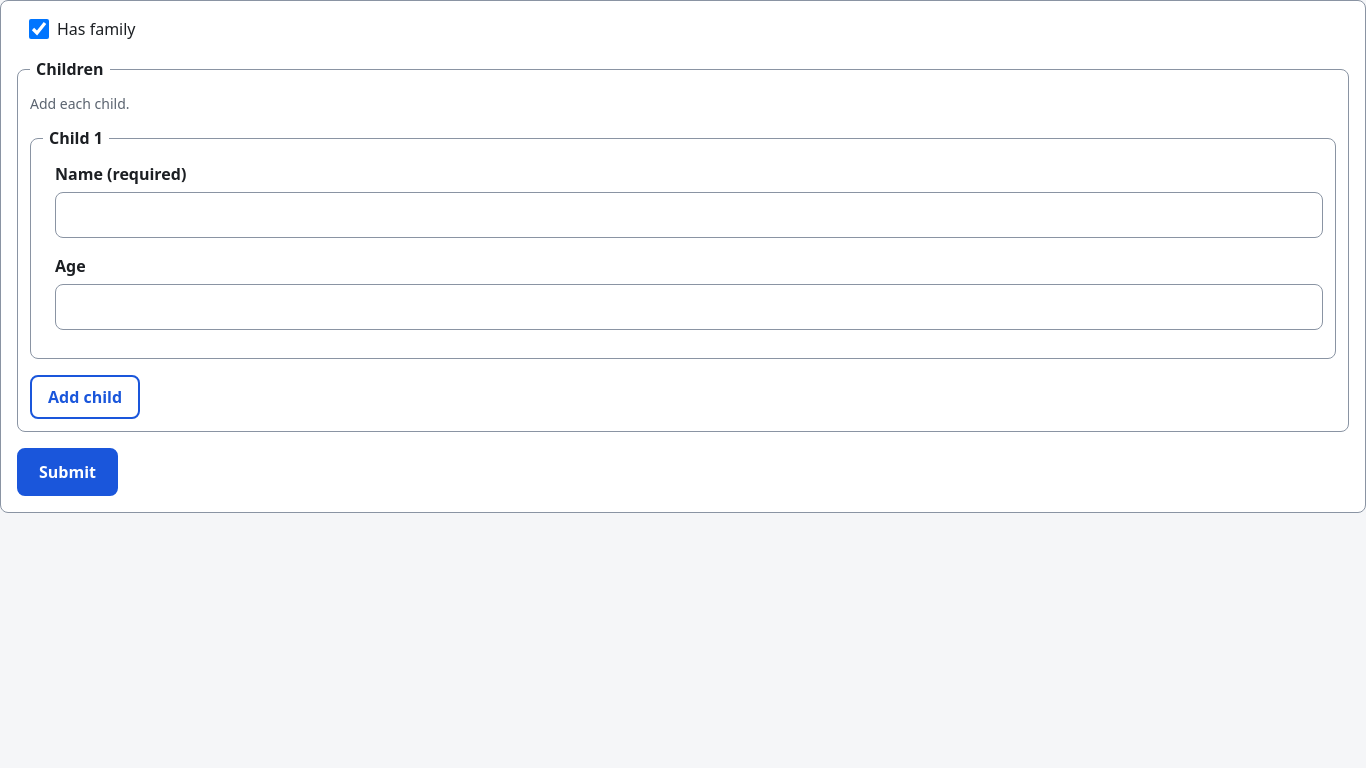
Test: Form: a group that repeats › names each remove button after its item
Click the button "Add child": x=85, y=397 [30,375,140,419]
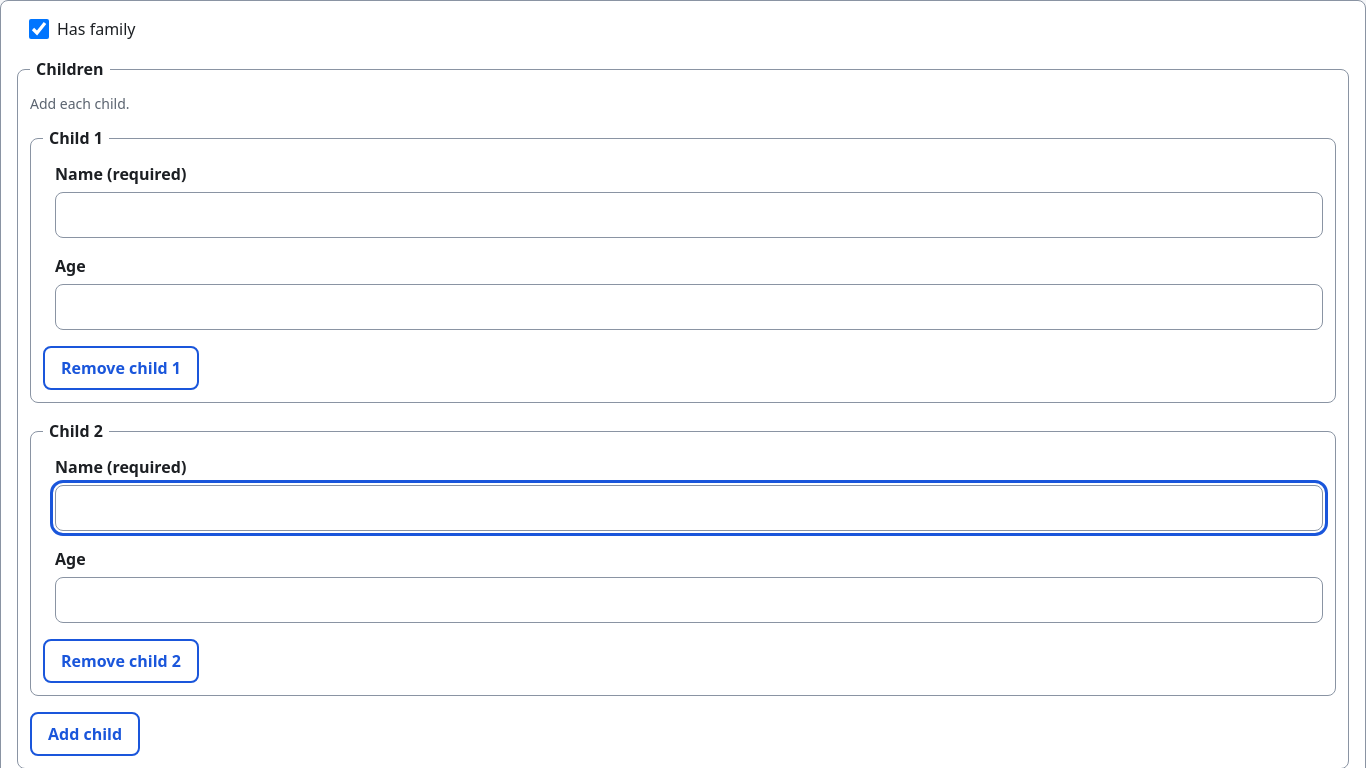
Check: the button "Remove child 1" is shown, box [43,346,199,390]
Check: the button "Remove child 2" is shown, box [43,639,199,683]
